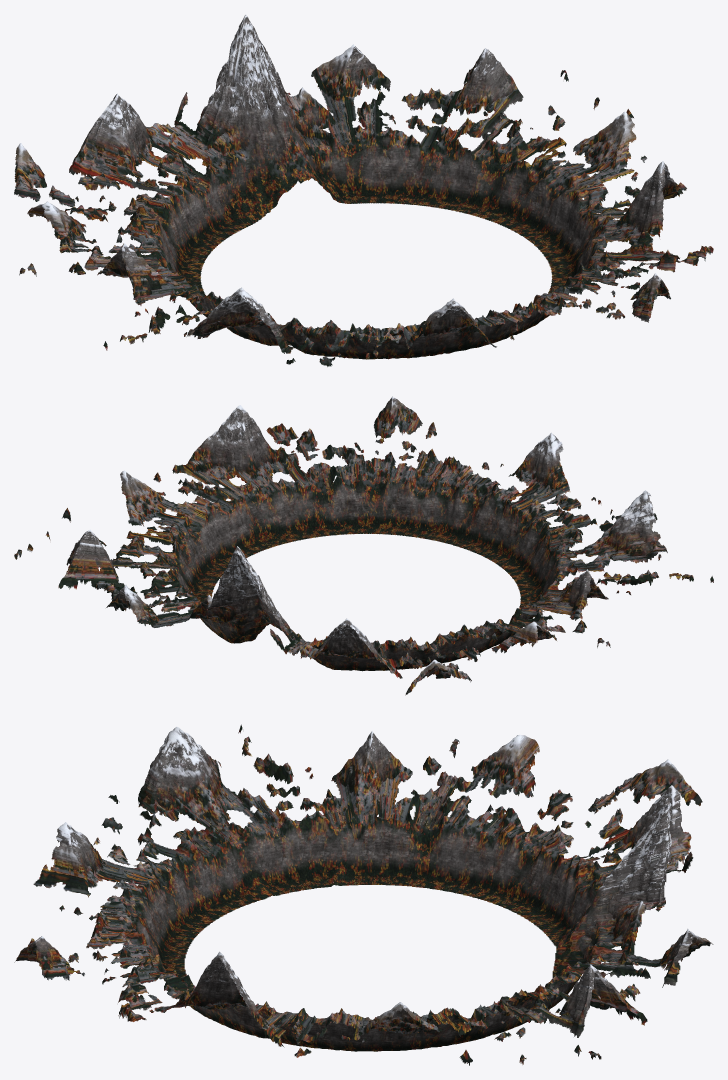
File: backdrop_far_quads_autumn.glb
The picture shows the model from 3 angles, top to bottom: view 1: azimuth 30°, elevation 25°; view 2: azimuth 150°, elevation 25°; view 3: azimuth 270°, elevation 25°; orthographic projection. The views are drawn at different scales.
Visible parts, largest first — view 1: far_N, far_E, far_W, far_S; view 2: far_S, far_E, far_N, far_W; view 3: far_W, far_N, far_S, far_E.
Boxes of the visible parts, x1,y1,x2,y2 form: far_N: (15,14,468,258); far_E: (420,48,713,293); far_W: (14,164,325,363); far_S: (287,250,698,366); far_S: (290,396,657,582); far_E: (14,405,325,602); far_N: (59,546,451,695); far_W: (410,490,713,682); far_W: (115,724,651,907); far_N: (505,759,713,1025); far_S: (14,795,239,1025); far_E: (119,951,645,1065).
Bounding box in the file's own units: 3332 × 801 × 2984.
8 materials, 8 textured.
